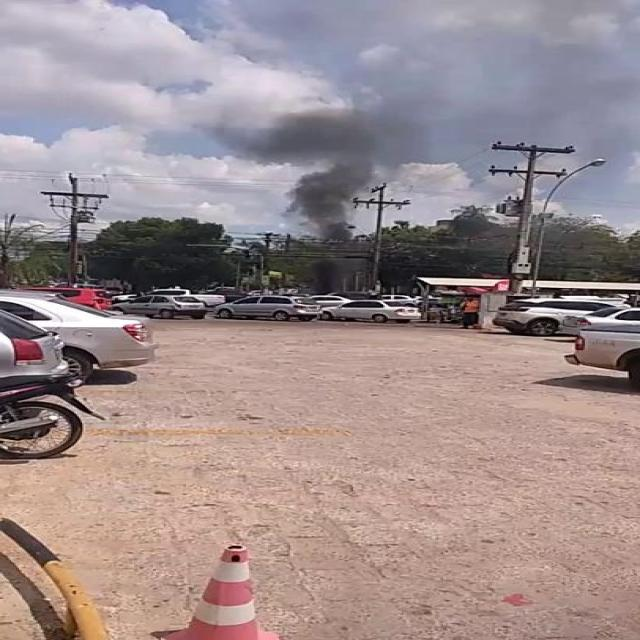Smoke: (245, 96, 392, 290)
